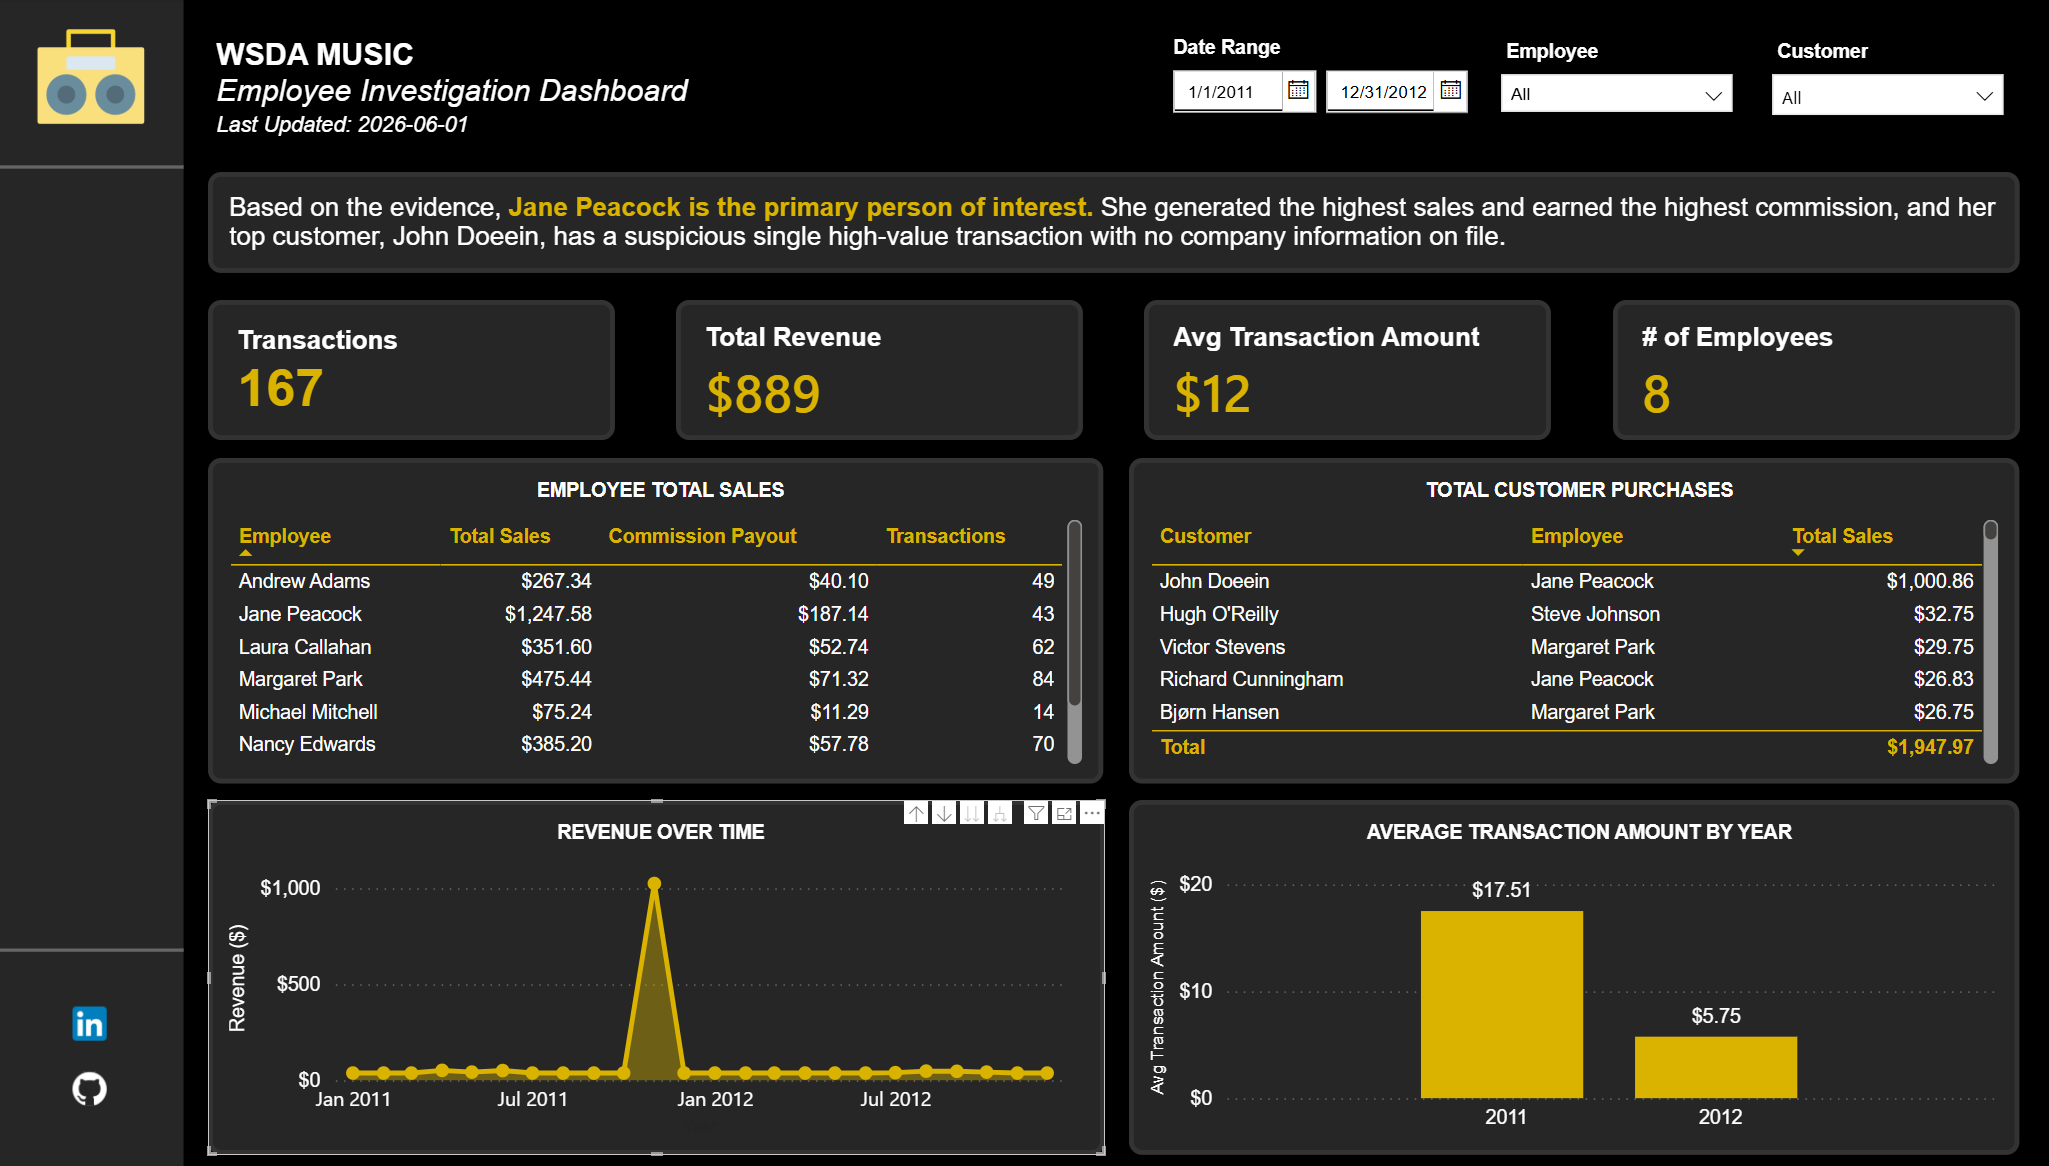

The page's visual inventory and layout, read from the dashboard file:
{"tool":"powerbi","page":{"name":"Page 1","canvas":[1280,720],"ordinal":0},"visuals":[{"type":"shape","box":[0,0,114,720],"z":0},{"type":"textbox","box":[129.3,18.2,450.5,87.9],"z":1000},{"type":"textbox","box":[129,106,1113,62],"z":2000},{"type":"slicer","fields":{"Values":["Date.Date"]},"box":[709,18,205,58],"z":3000},{"type":"slicer","fields":{"Values":["Employee Table.FullName"]},"box":[913.5,20,162,72],"z":4000},{"type":"slicer","fields":{"Values":["Customer Table.CustomerName"]},"box":[1080,20,162,72],"z":5000},{"type":"cardVisual","fields":{"Data":["Invoice.invoice_count_2011_2012"]},"box":[129,185,250,86],"z":6000},{"type":"tableEx","title":"TOTAL CUSTOMER PURCHASES","fields":{"Values":["Customer Table.CustomerName","Employee Table.FullName","Sum(Invoice.Total)"]},"box":[694.9,281.8,547.5,200],"z":7000},{"type":"areaChart","title":"REVENUE OVER TIME","fields":{"Category":["Date.Date.Variation.Date Hierarchy.Year","Date.Date.Variation.Date Hierarchy.Quarter","Date.Date.Variation.Date Hierarchy.Month"],"Y":["Sum(Invoice.Total)"]},"box":[129.3,491.9,550.5,218.2],"z":8000},{"type":"columnChart","title":"AVERAGE TRANSACTION AMOUNT BY YEAR","fields":{"Category":["Date.Year"],"Y":["Invoice.Average Sales"]},"box":[694.9,491.9,547.5,218.2],"z":9000},{"type":"cardVisual","fields":{"Data":["CountNonNull(Revenue.Revenue)"]},"box":[416.7,185,250,86],"z":10000},{"type":"tableEx","title":"EMPLOYEE TOTAL SALES","fields":{"Values":["Employee Table.FullName","Employee Table.Total_Sales","Employee Table.Commission_Payout","Employee Table.Transaction_Count"]},"box":[129,282,550,200],"z":11000},{"type":"cardVisual","fields":{"Data":["Invoice.Average Sales"]},"box":[704.3,185,250,86],"z":12000},{"type":"cardVisual","fields":{"Data":["Customer Table.Employee Count"]},"box":[992,185,250,86],"z":13000},{"type":"image","box":[11.1,6.1,91.9,82.8],"z":14000},{"type":"actionButton","box":[42,615,30,29],"z":15000},{"type":"shape","box":[0,43.4,114.1,119.2],"z":16000},{"type":"shape","box":[0,553.5,114.1,61.6],"z":17000},{"type":"actionButton","box":[42,655,30,29],"z":18000}]}

Visuals, with their boxes in screenshot pixels (x1, y1, x2, y2), scaled from the page's 1280x720 canvas onto the 2049x1166 screenshot:
shape: <box>0,0,182,1165</box>
textbox: <box>207,29,928,172</box>
textbox: <box>207,172,1988,272</box>
slicer - Date.Date: <box>1135,29,1463,123</box>
slicer - Employee Table.FullName: <box>1462,32,1722,149</box>
slicer - Customer Table.CustomerName: <box>1729,32,1988,149</box>
cardVisual - Invoice.invoice_count_2011_2012: <box>207,300,607,439</box>
"TOTAL CUSTOMER PURCHASES" tableEx: <box>1112,456,1989,780</box>
"REVENUE OVER TIME" areaChart: <box>207,797,1088,1150</box>
"AVERAGE TRANSACTION AMOUNT BY YEAR" columnChart: <box>1112,797,1989,1150</box>
cardVisual - CountNonNull(Revenue.Revenue): <box>667,300,1067,439</box>
"EMPLOYEE TOTAL SALES" tableEx: <box>207,457,1087,781</box>
cardVisual - Invoice.Average Sales: <box>1127,300,1528,439</box>
cardVisual - Customer Table.Employee Count: <box>1588,300,1988,439</box>
image: <box>18,10,165,144</box>
actionButton: <box>67,996,115,1043</box>
shape: <box>0,70,183,263</box>
shape: <box>0,896,183,996</box>
actionButton: <box>67,1061,115,1108</box>
